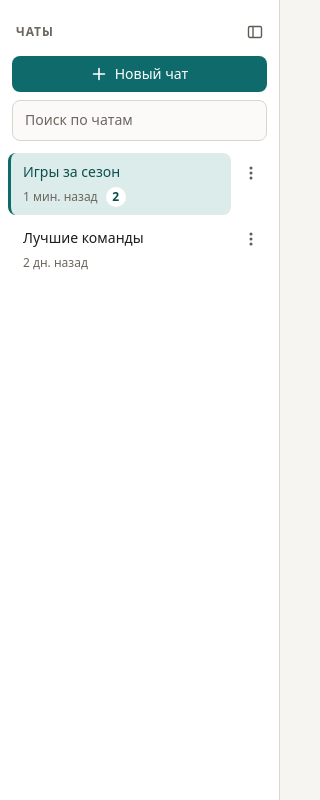
Test: ChatList › renames a chat inline through PATCH and shows the new title
The width and height of the screenshot is (320, 800).
Click the button named "Действия с чатом «Игры за сезон»": point(251, 173) [235,157,267,189]
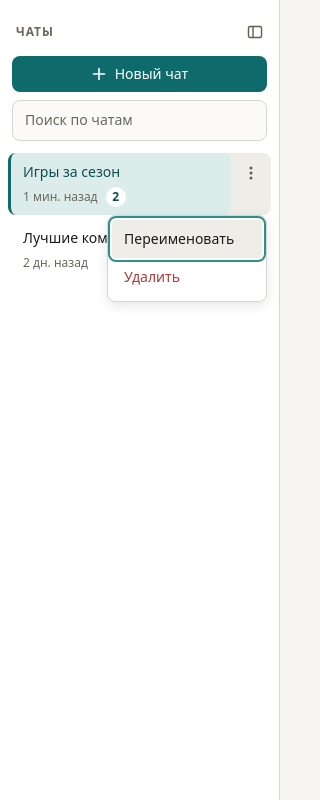
Click the menu item "Переименовать": point(187, 239) [112,220,262,258]
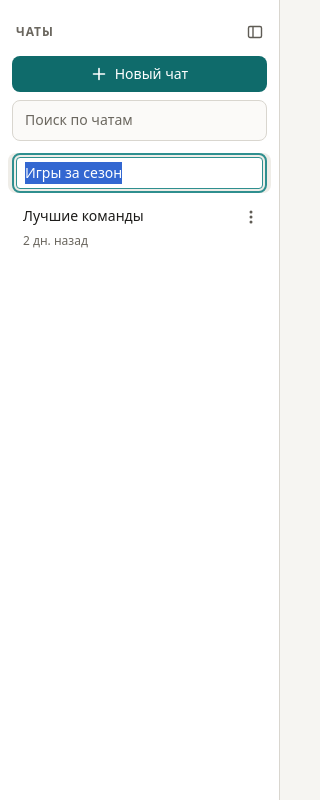
Expected: the field named "Новое название чата" holds "Игры за сезон"
Replace the text in the field named "Новое название чата" with "  Сезон   2026 ": point(140, 173) [16,157,263,189]
Then press Enter
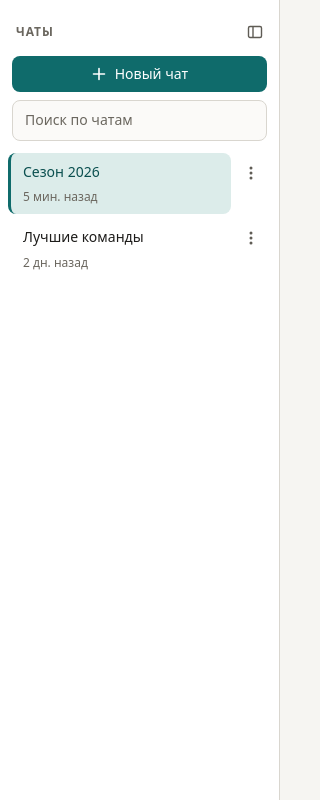
Expected: the link "Сезон 2026 5 мин. назад" is shown, [8,153,231,214]
